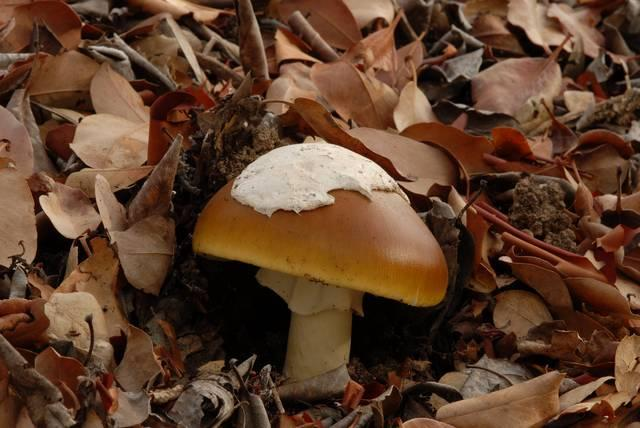edible_mushroom: (191, 139, 449, 401)
